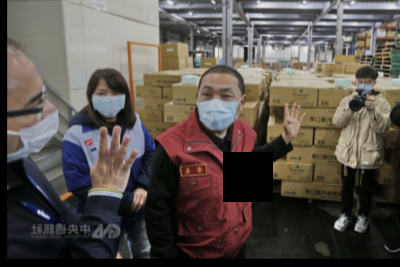with_mask: (7, 78, 60, 162), (196, 82, 240, 131), (91, 86, 126, 116), (356, 78, 373, 94)
